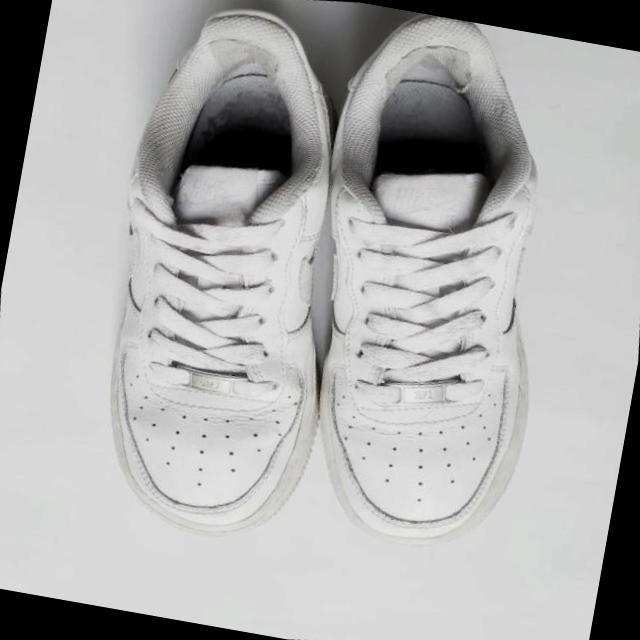nike_fake_airforce: (240, 0, 616, 583), (26, 0, 405, 573)
